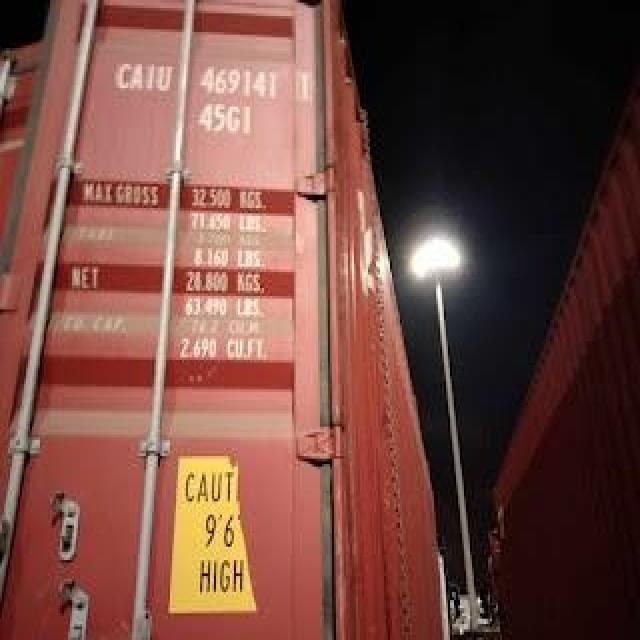ISO: (196, 102, 255, 134)
container_number: (118, 66, 306, 98)
